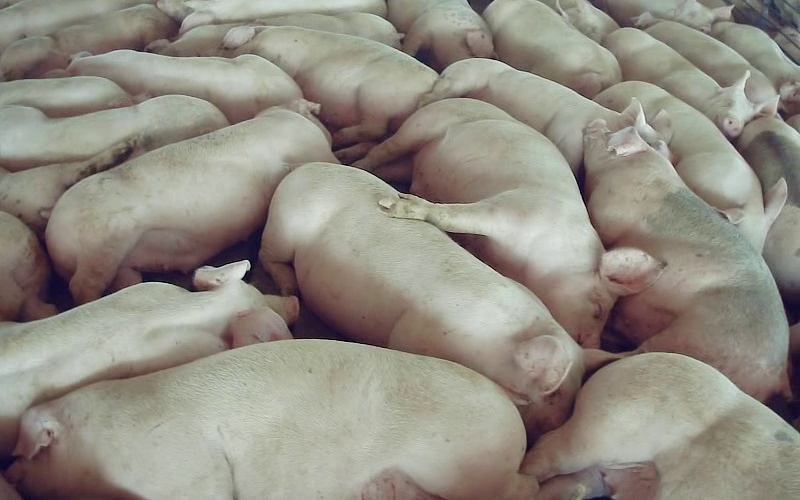pig: (6, 340, 537, 499), (355, 98, 661, 346), (0, 261, 298, 460), (46, 99, 336, 301), (584, 120, 787, 400), (522, 354, 799, 499), (594, 81, 786, 251), (207, 26, 437, 161), (421, 58, 671, 174), (602, 28, 778, 139), (45, 50, 302, 123), (0, 95, 228, 170), (0, 4, 177, 80), (483, 0, 621, 97), (0, 137, 135, 235), (635, 12, 775, 103), (736, 118, 799, 303), (711, 21, 799, 115), (0, 0, 152, 52), (157, 0, 386, 33), (388, 0, 493, 70), (0, 76, 132, 117)
